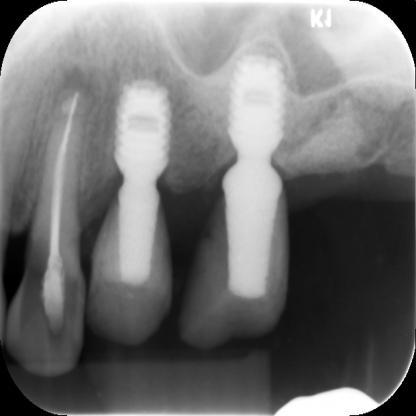Bicon: (221, 51, 294, 160), (109, 77, 177, 179)
